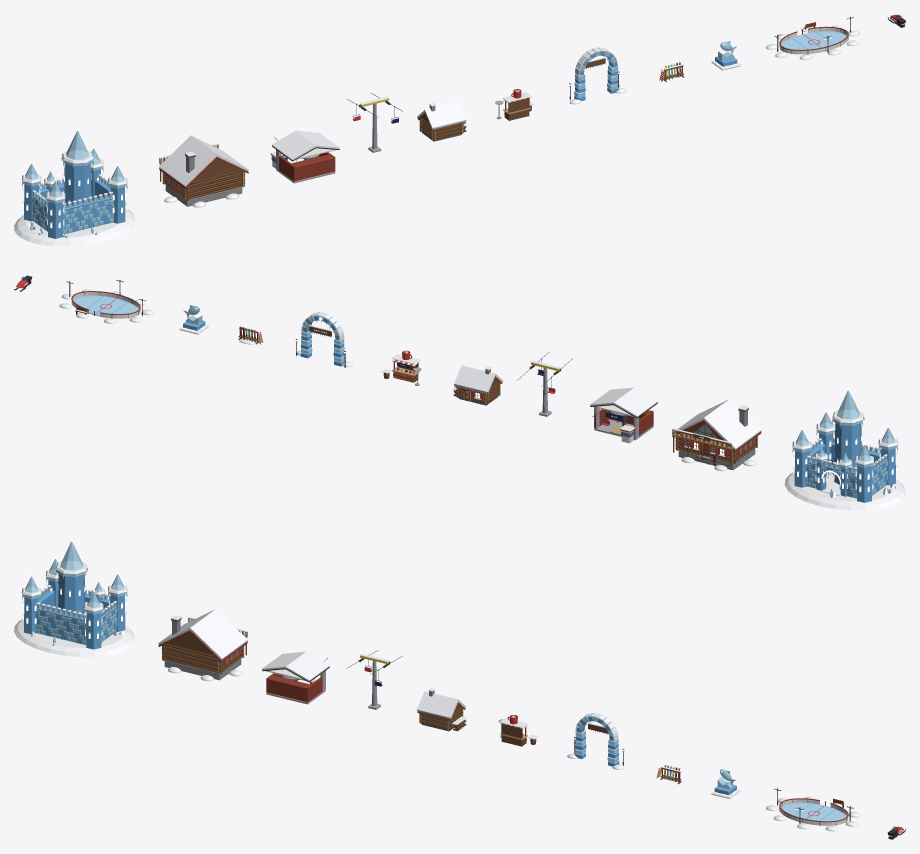
The model's file is SnowyPeaks.fbx.
3 renders of one model, top to bottom at view 1: azimuth 30°, elevation 25°; view 2: azimuth 150°, elevation 25°; view 3: azimuth 330°, elevation 25°, orthographic.
Visible parts, largest first — view 1: IceCastle_IceDeep, IceCastle, IceCastle_Snow, SkiLodge_Snow, SkiLodge_WoodDark, SkiLiftStation_Snow, SkiLiftStation_WoodRed, IceRink_Ice, LogCabin_Snow, SkiLodge_Bark, SkiLodge_Stone, IceArch_IceDeep (+3 smaller); view 2: IceCastle_IceDeep, IceCastle_Snow, IceCastle, SkiLodge_Snow, SkiLodge_WoodDark, SkiLiftStation_Snow, IceRink_Ice, LogCabin_Snow, IceCastle_IceGlow, SkiLodge_Stone, SkiLiftStation_WoodRed, SkiLiftStation_Concrete (+3 smaller); view 3: IceCastle_IceDeep, IceCastle, IceCastle_Snow, SkiLodge_Snow, SkiLodge_WoodDark, SkiLiftStation_Snow, SkiLiftStation_WoodRed, LogCabin_Snow, IceRink_Ice, SkiLodge_Bark, SkiLodge_Stone.
Boxes of the visible parts, bbox=[...] form: IceCastle_IceDeep: bbox=[24, 163, 125, 238]; IceCastle: bbox=[21, 130, 127, 238]; IceCastle_Snow: bbox=[14, 150, 135, 246]; SkiLodge_Snow: bbox=[159, 135, 248, 207]; SkiLodge_WoodDark: bbox=[159, 144, 245, 200]; SkiLiftStation_Snow: bbox=[270, 130, 339, 160]; SkiLiftStation_WoodRed: bbox=[279, 152, 335, 181]; IceRink_Ice: bbox=[781, 31, 846, 49]; LogCabin_Snow: bbox=[417, 101, 466, 129]; SkiLodge_Bark: bbox=[163, 170, 245, 198]; SkiLodge_Stone: bbox=[165, 156, 242, 206]; IceArch_IceDeep: bbox=[574, 51, 618, 100]; IceCastle_IceDeep: bbox=[794, 423, 895, 502]; IceCastle_Snow: bbox=[784, 410, 905, 510]; IceCastle: bbox=[792, 390, 898, 498]; SkiLodge_Snow: bbox=[672, 399, 761, 471]; SkiLodge_WoodDark: bbox=[672, 422, 757, 466]; SkiLiftStation_Snow: bbox=[590, 387, 657, 431]; IceRink_Ice: bbox=[73, 295, 138, 316]; LogCabin_Snow: bbox=[453, 365, 502, 399]; IceCastle_IceGlow: bbox=[793, 388, 896, 497]; SkiLodge_Stone: bbox=[678, 410, 755, 470]; SkiLiftStation_WoodRed: bbox=[594, 409, 653, 438]; SkiLiftStation_Concrete: bbox=[594, 407, 653, 440]; IceCastle_IceDeep: bbox=[24, 574, 125, 649]; IceCastle: bbox=[21, 541, 127, 645]; IceCastle_Snow: bbox=[14, 561, 135, 657]; SkiLodge_Snow: bbox=[158, 609, 247, 681]; SkiLodge_WoodDark: bbox=[162, 618, 247, 673]; SkiLiftStation_Snow: bbox=[262, 651, 329, 681]; SkiLiftStation_WoodRed: bbox=[266, 673, 322, 702]; LogCabin_Snow: bbox=[416, 688, 466, 724]; IceRink_Ice: bbox=[781, 802, 846, 821]; SkiLodge_Bark: bbox=[162, 643, 243, 672]; SkiLodge_Stone: bbox=[164, 620, 241, 680].
Bounding box in the file's own units: 510 × 53.85 × 51.2.
